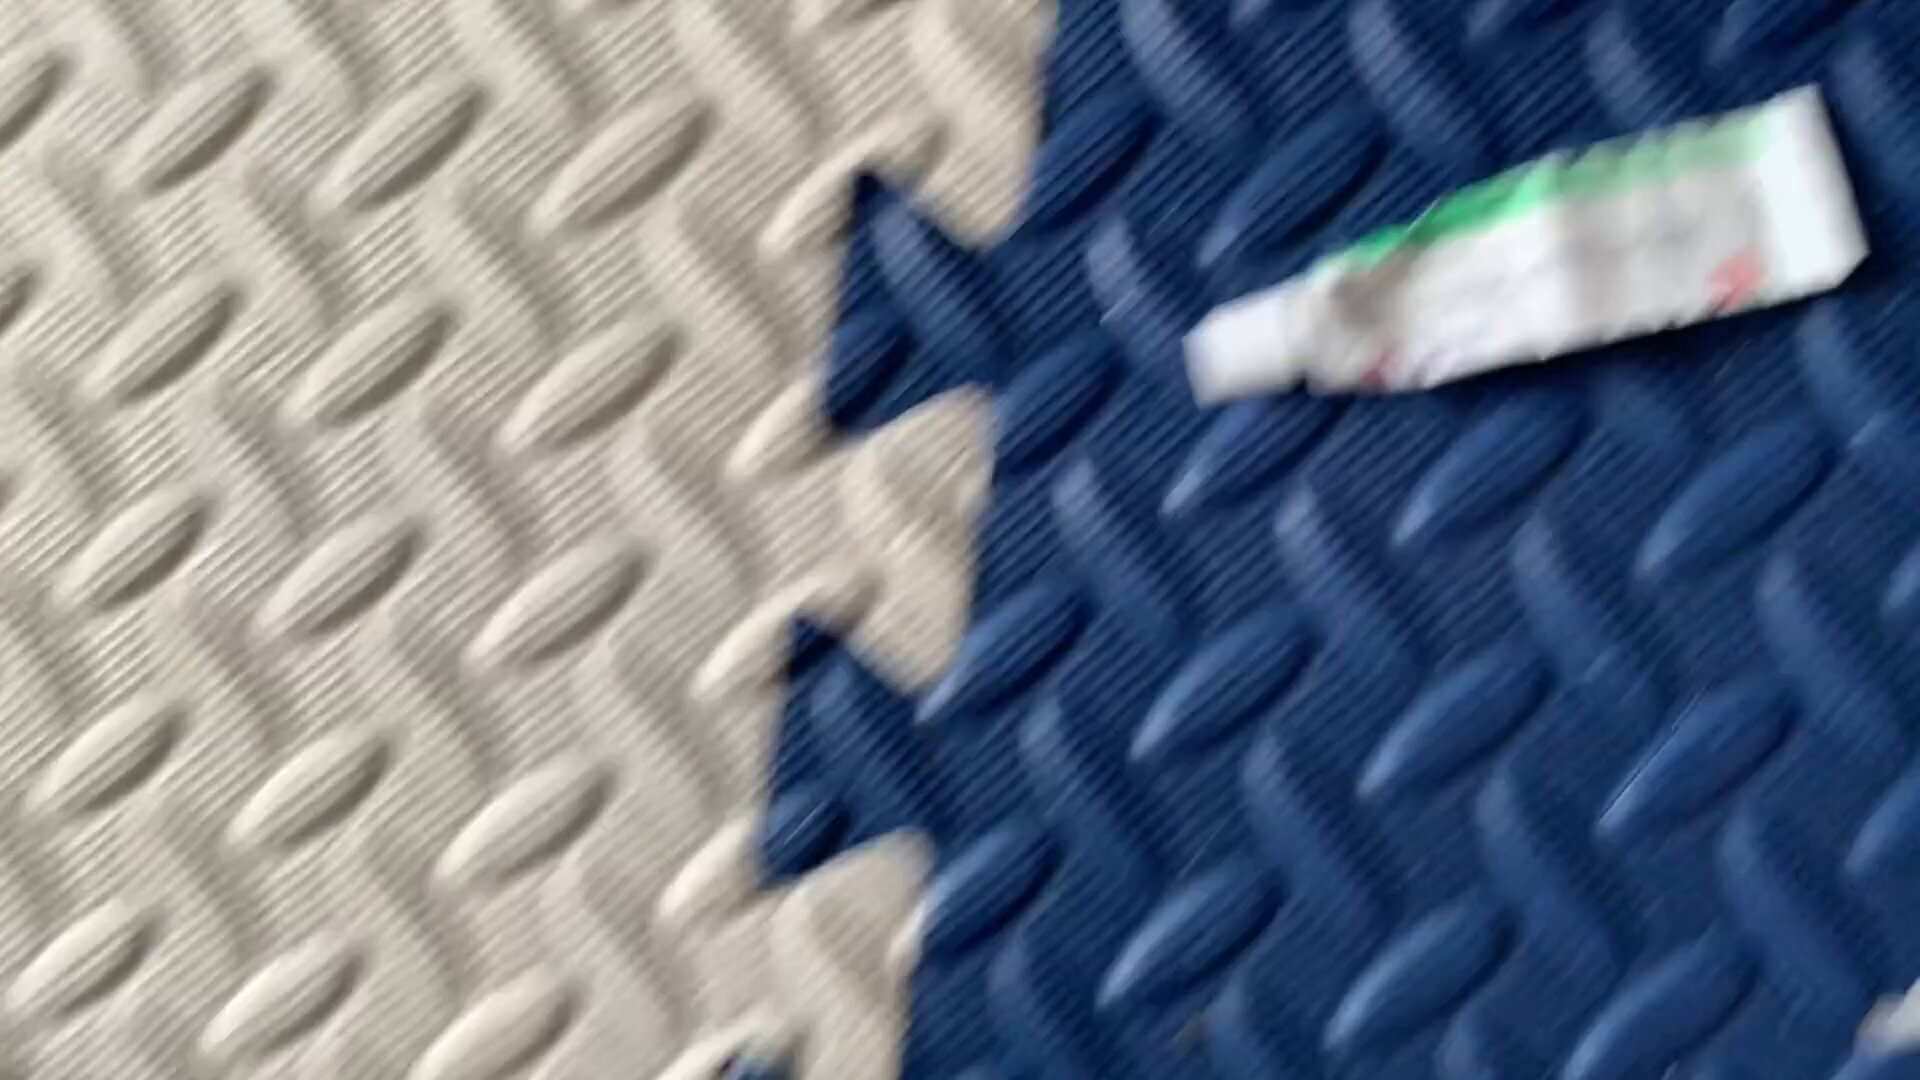不可回收塑料: (1164, 123, 1867, 386)
可回收塑料: (1150, 70, 1874, 419)
